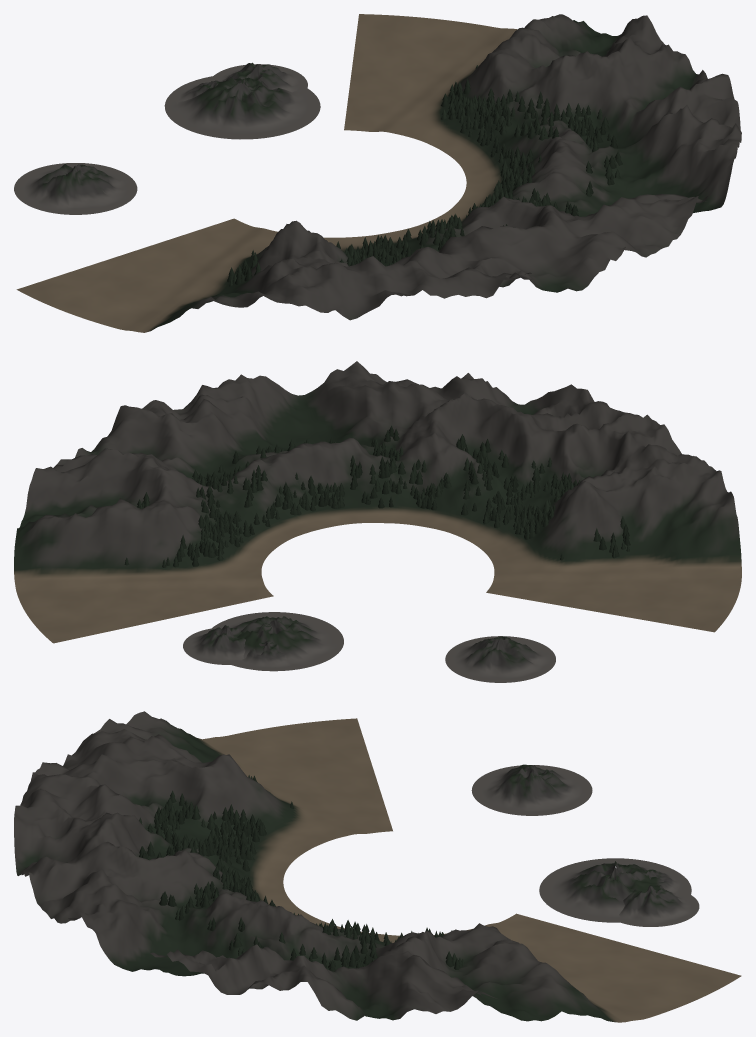
Rendered from coast.glb.
3 views of the same model, one above another, from view 1: azimuth 30°, elevation 25°; view 2: azimuth 150°, elevation 25°; view 3: azimuth 270°, elevation 25° (orthographic). The views are drawn at different scales.
Visible parts, largest first — view 1: CoastRange, CoastForest, Islet_2, Islet_3, Islet_0, Islet_1; view 2: CoastRange, CoastForest, Islet_2, Islet_3, Islet_0, Islet_1; view 3: CoastRange, CoastForest, Islet_2, Islet_3, Islet_0, Islet_1.
Part boxes in pixels (x1,y1,x2,y2): CoastRange: (16,14,741,332); CoastForest: (227,65,622,286); Islet_2: (164,74,320,139); Islet_3: (14,163,137,214); Islet_0: (209,62,307,94); Islet_1: (173,79,222,103); CoastRange: (14,361,741,643); CoastForest: (124,425,630,567); Islet_2: (210,612,343,671); Islet_3: (445,636,555,682); Islet_0: (183,625,245,664); Islet_1: (233,640,296,670); CoastRange: (14,711,741,1022); CoastForest: (139,775,464,971); Islet_2: (539,858,691,922); Islet_3: (471,764,592,815); Islet_0: (610,885,699,926); Islet_1: (643,868,689,896).
Size of the model in its own units: 398 by 40.8 by 367.
